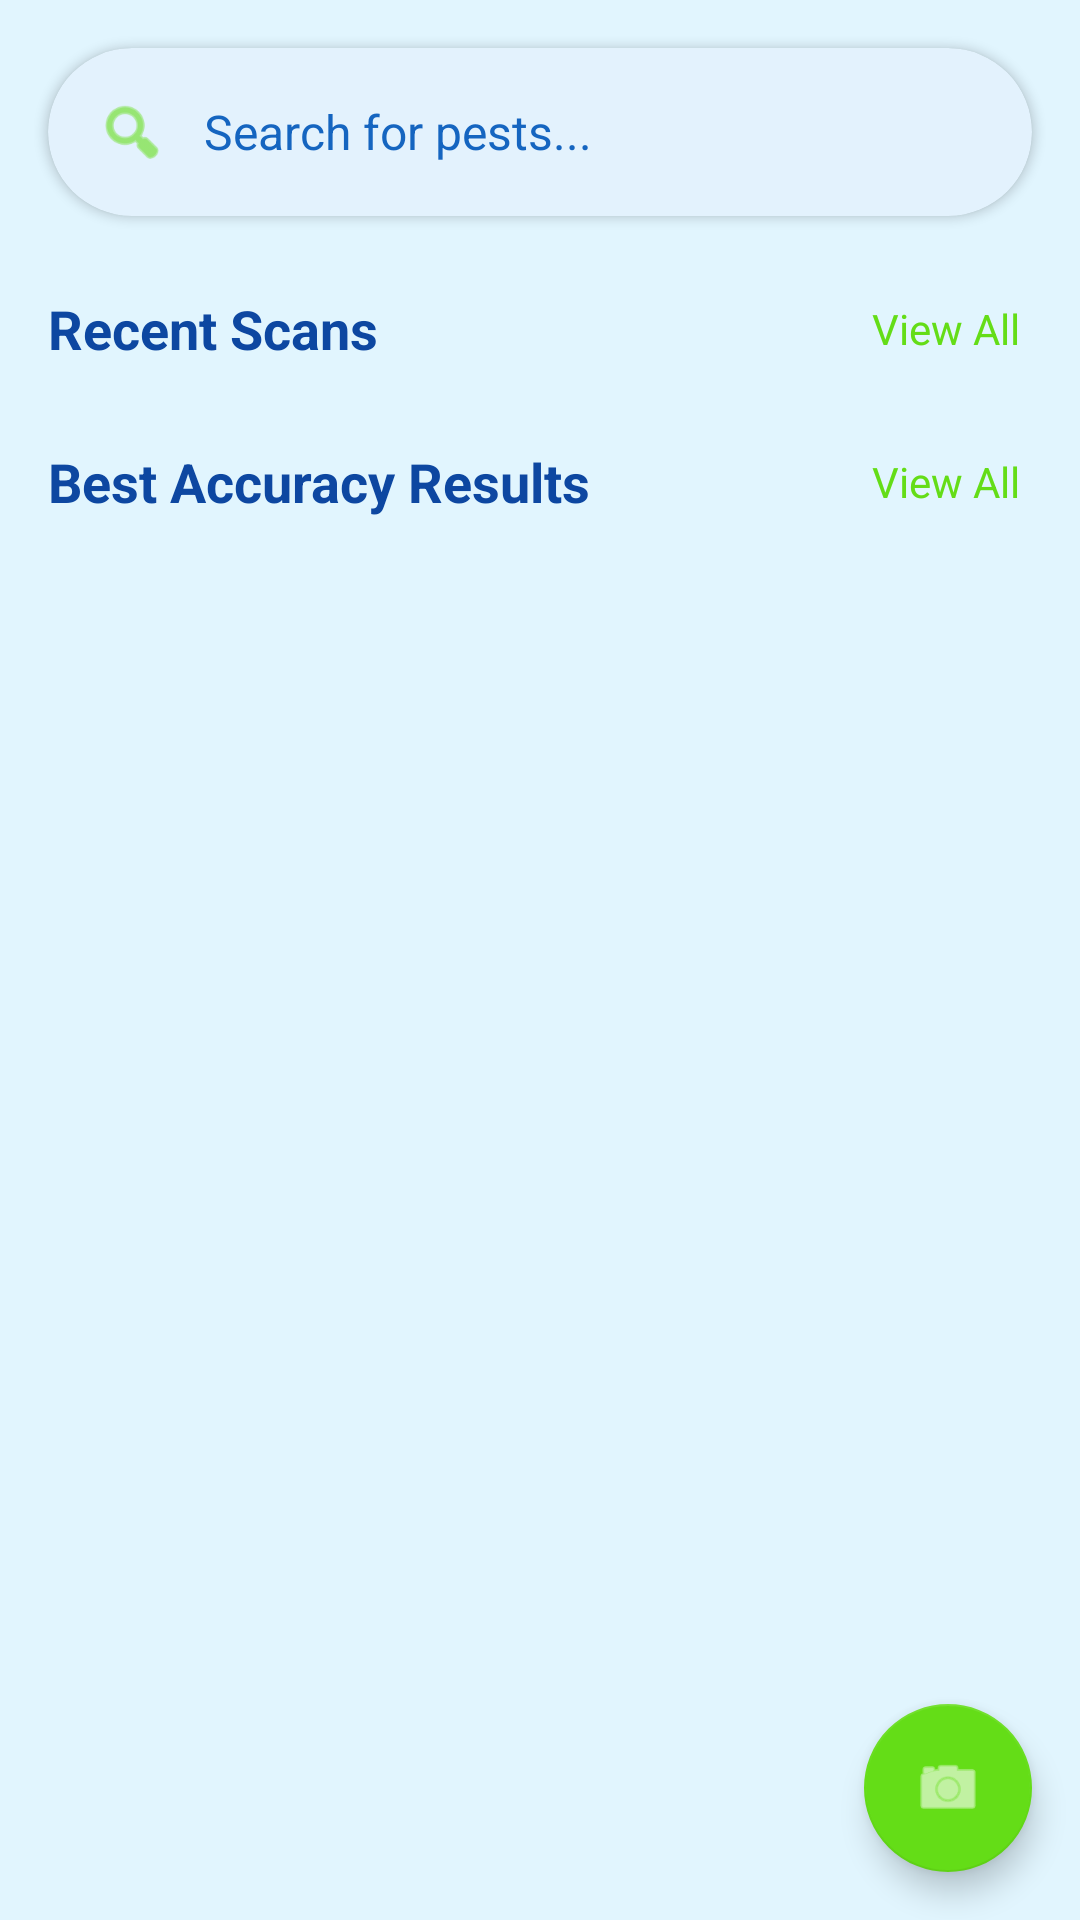

Icon click points for this 1080x1920 phone screenshot, format point (x, y):
Scan: point (948, 1788)
